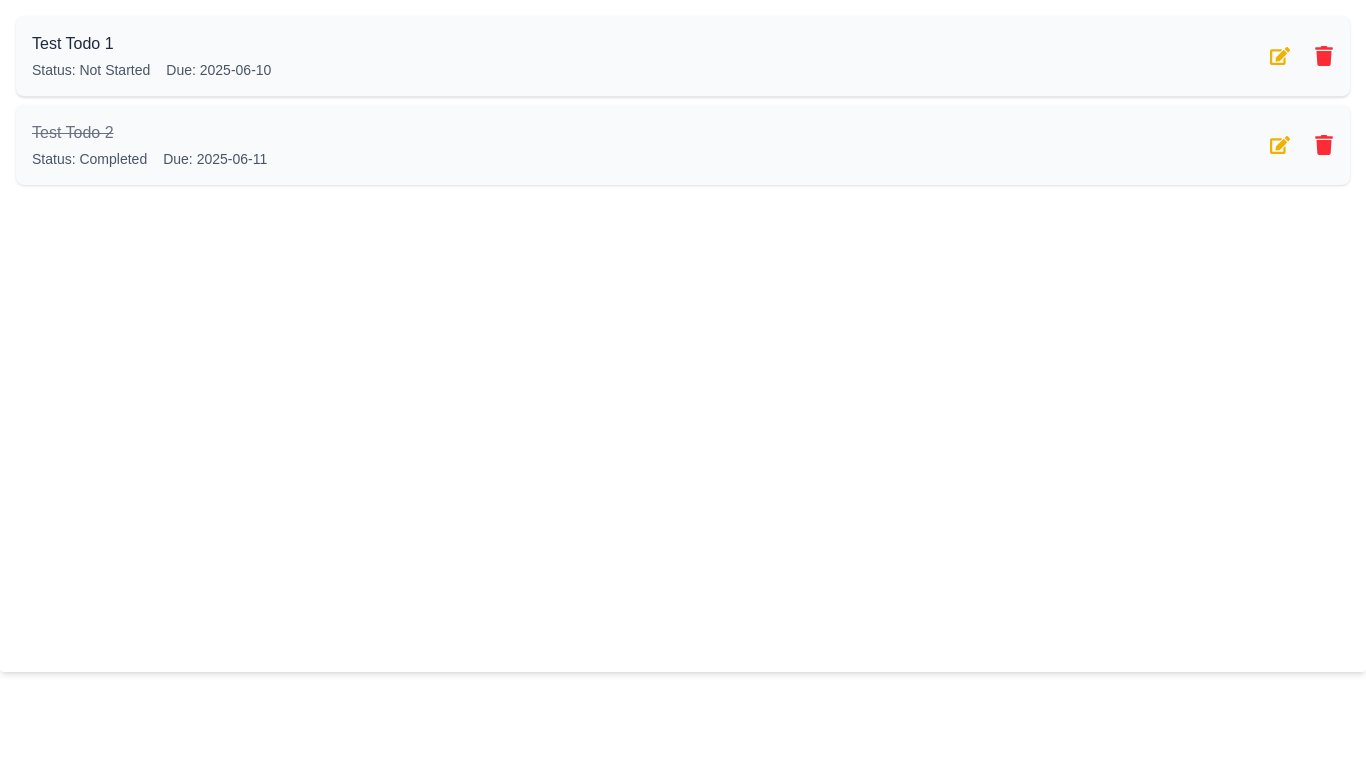
Test case: TodoList › shows tooltip content
Hover over the text "Test Todo 1" at (73, 44), box left=32, top=35, right=114, bottom=52
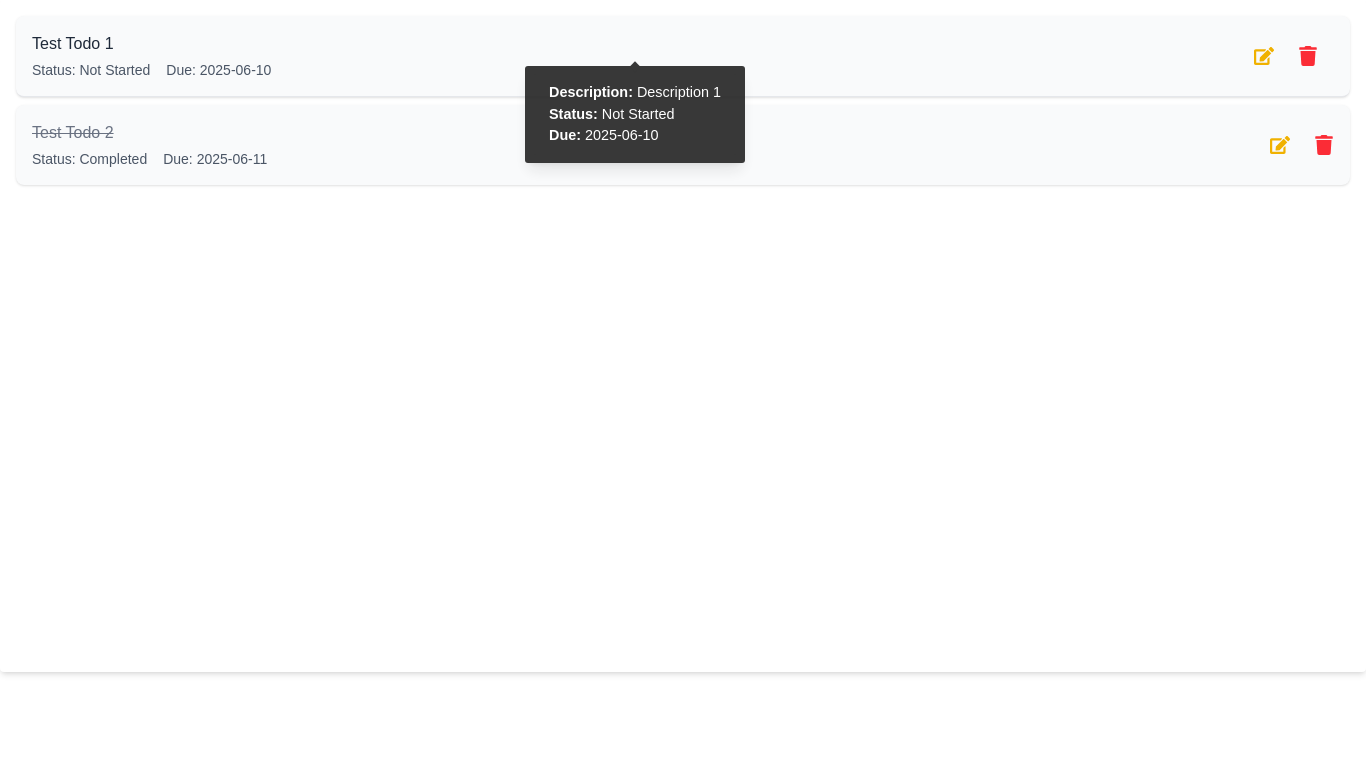
Expected: the text "Status: Not Started" is shown, left=32, top=62, right=150, bottom=78
Now the text "Description:" is shown, box left=549, top=84, right=633, bottom=100
Now the text "Description: Description 1" is shown, box left=549, top=82, right=721, bottom=104
